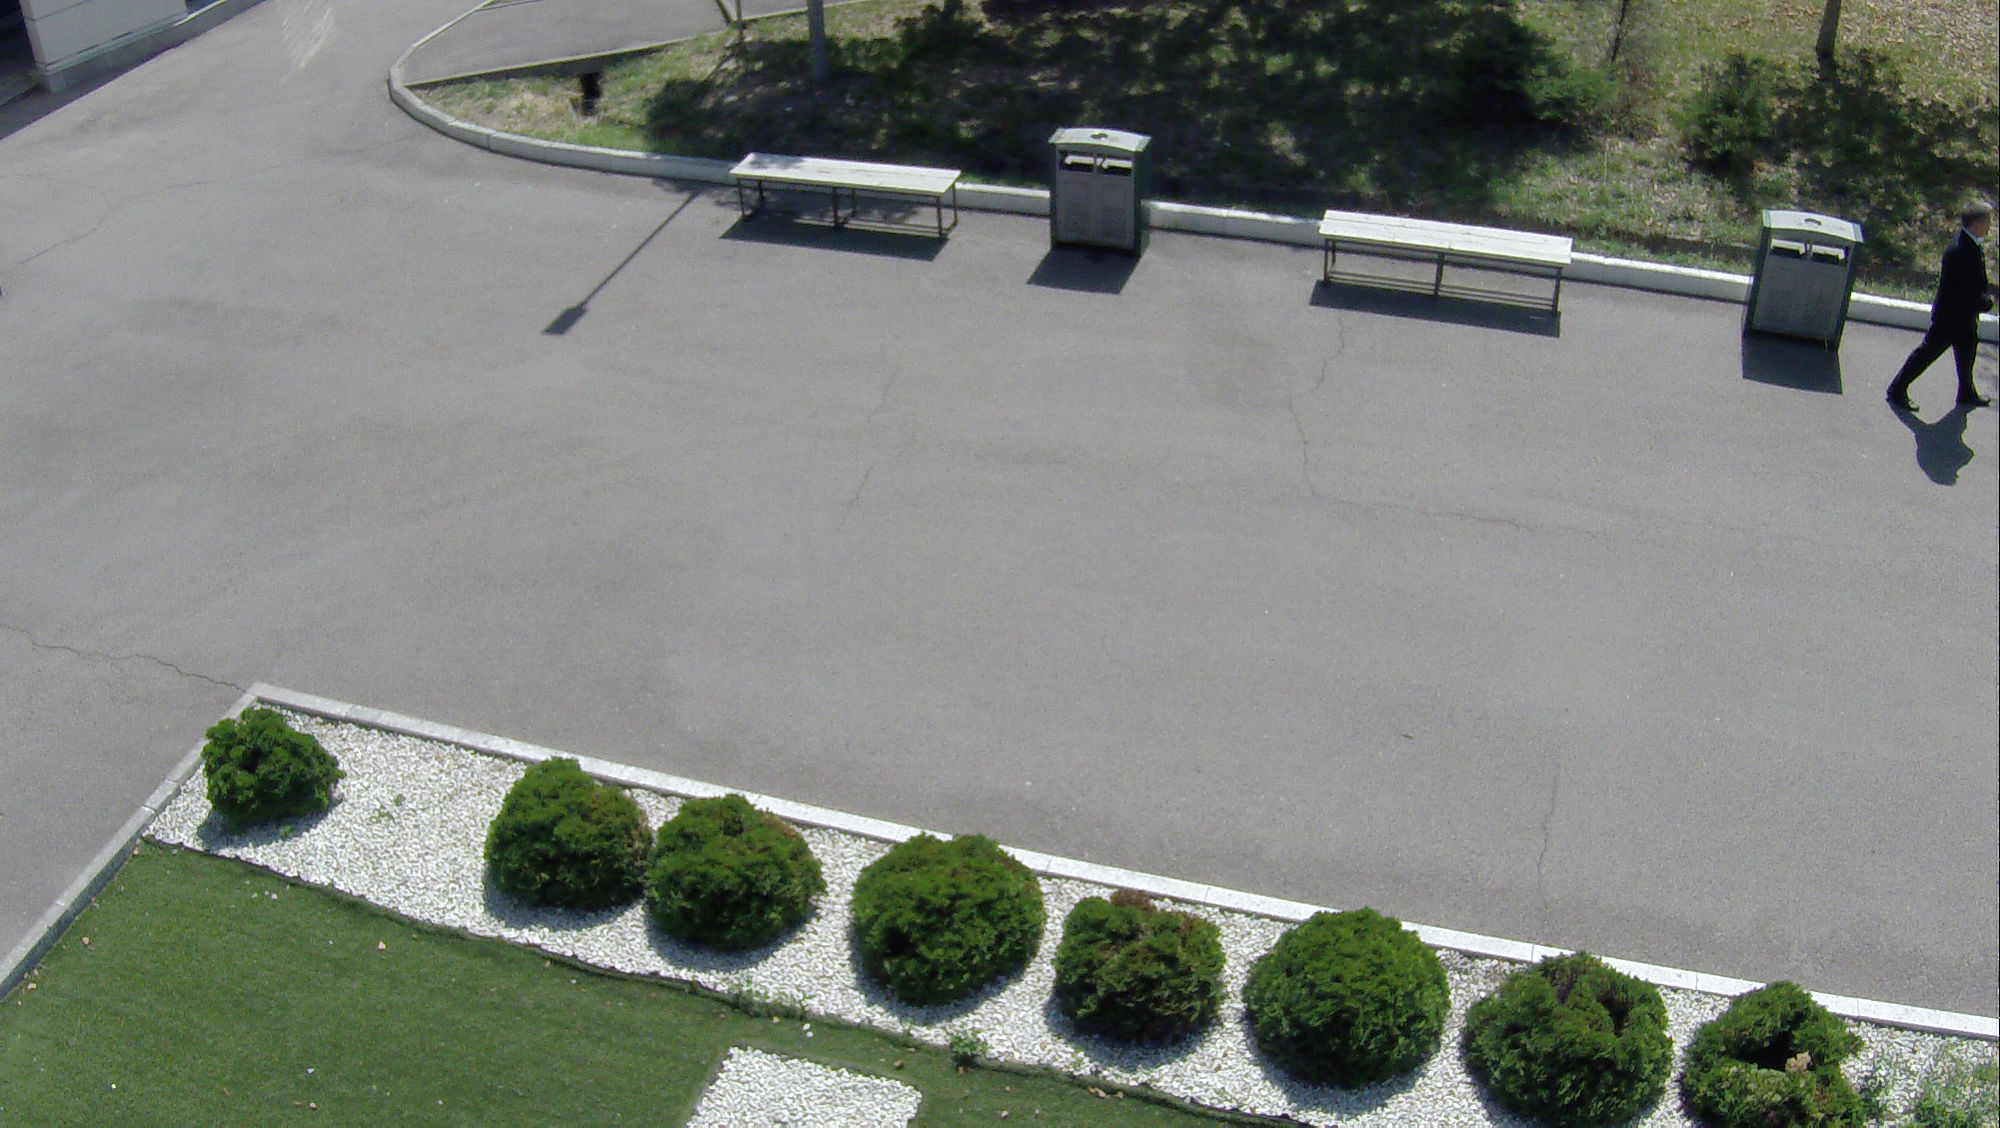person: (1880, 183, 2000, 420)
